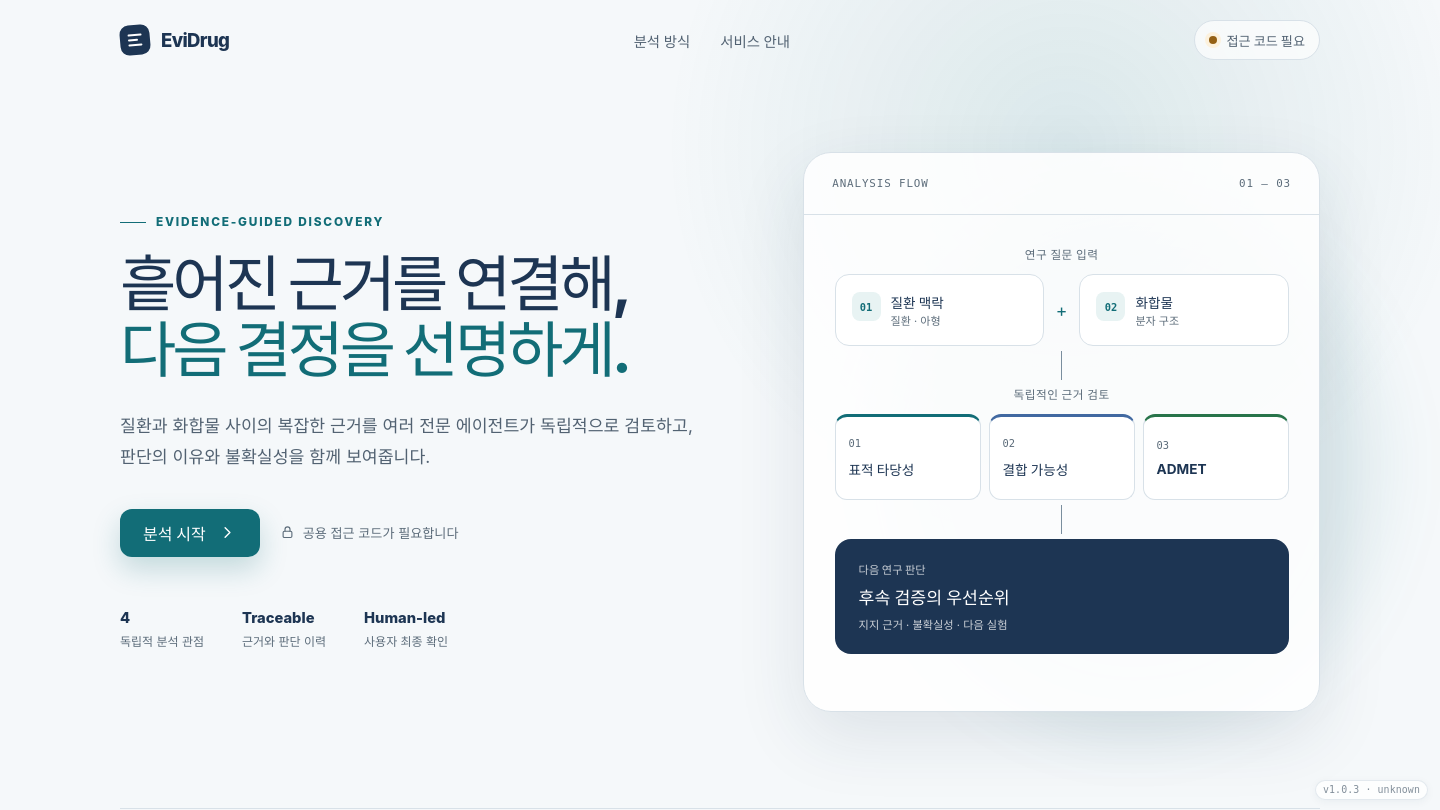
Test: App authentication flow › explains an invalid access code without clearing the input
Click the button "분석 시작" at coordinates (190, 533), box [120,509,260,557]
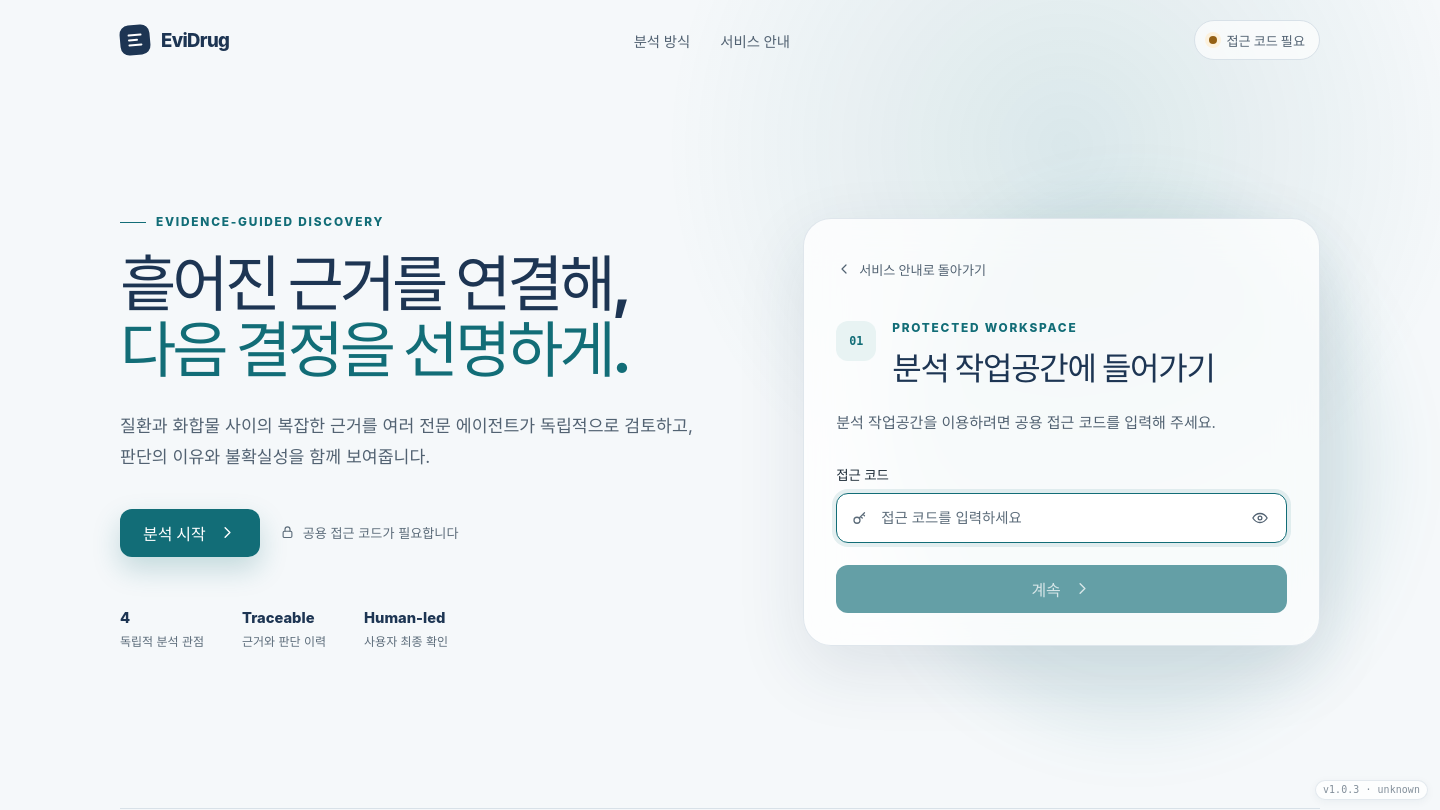
Type "incorrect-code" into the password field labelled "접근 코드" at coordinates (1056, 518), box [879,494,1232,542]
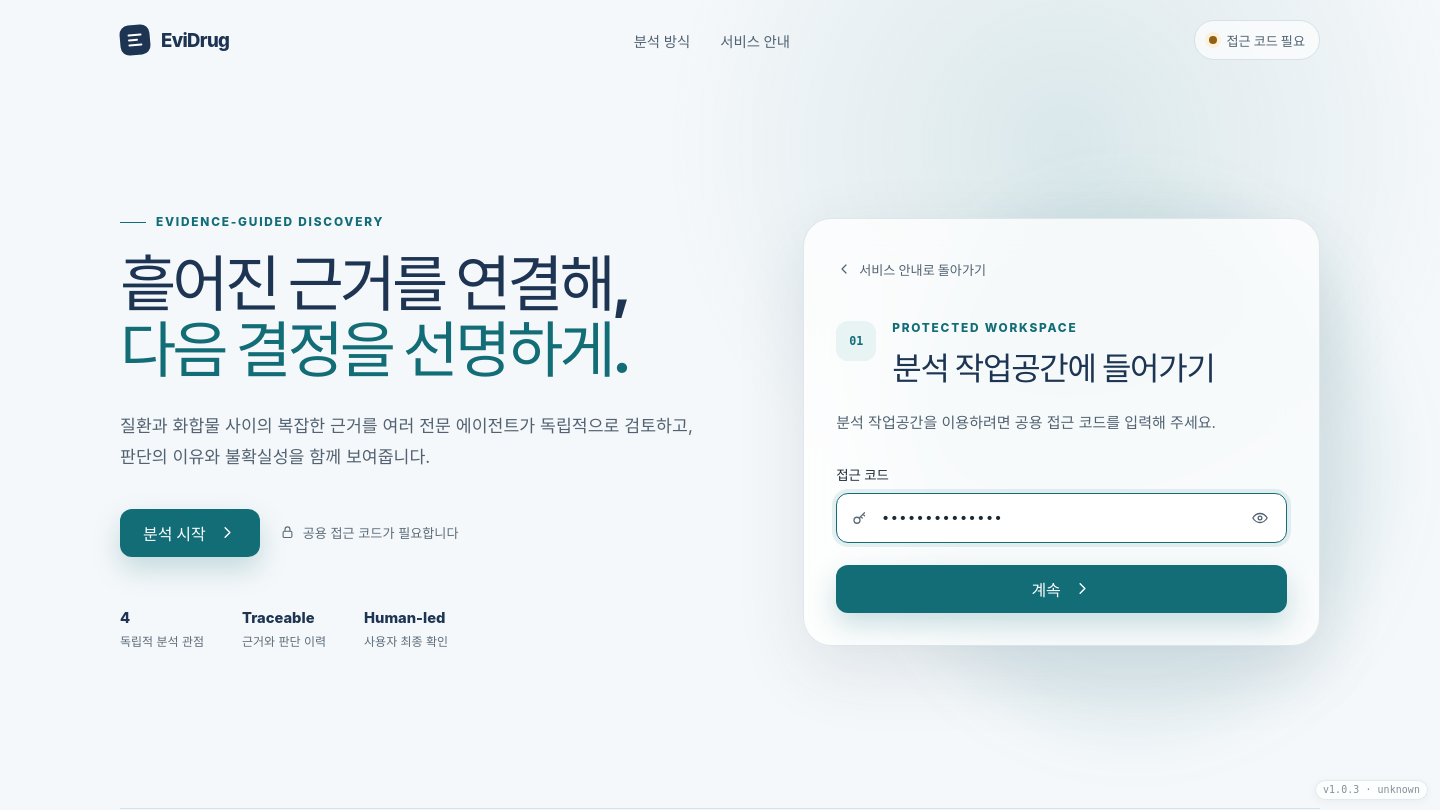
Click the button "계속" at coordinates (1062, 589), box [836,565,1287,613]
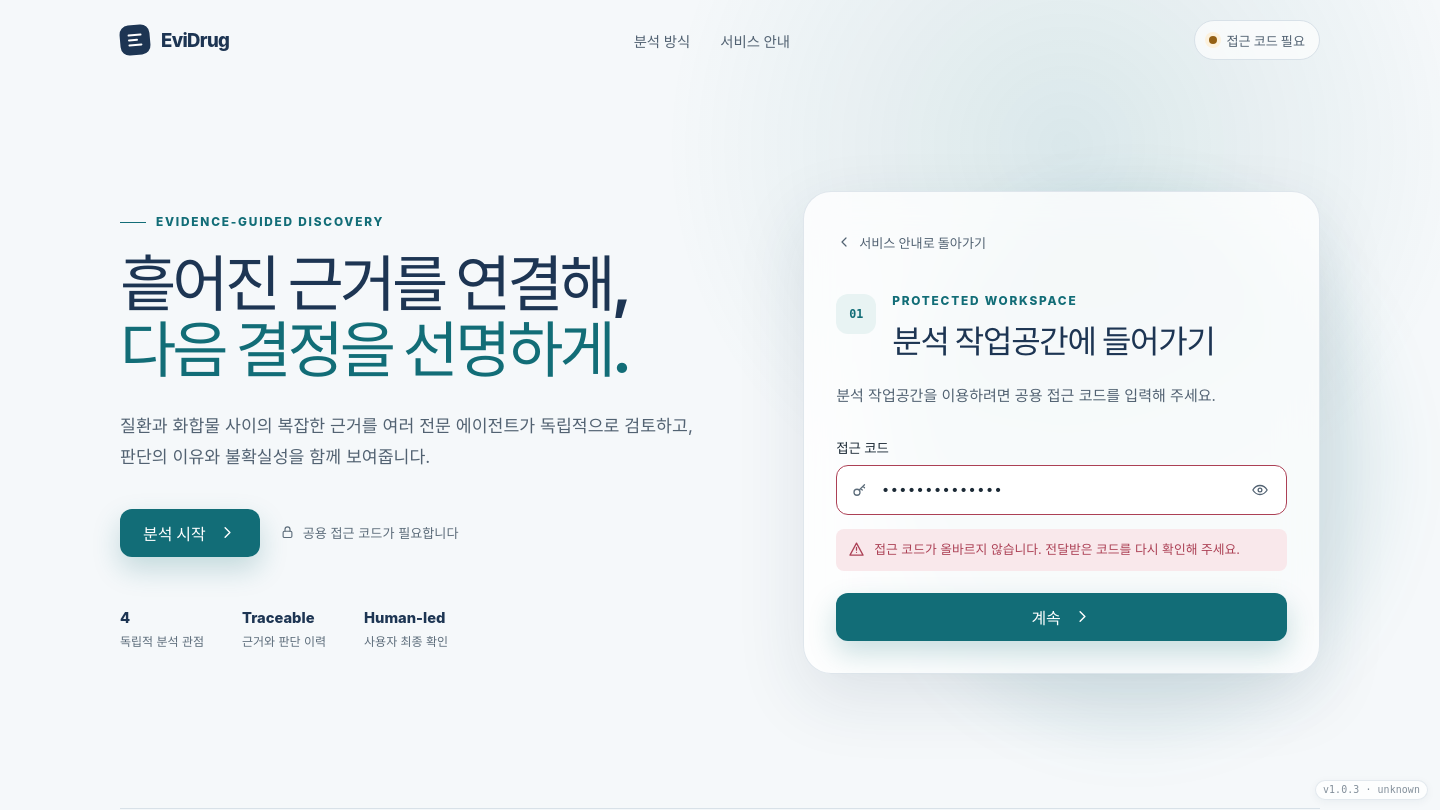
Now the text "접근 코드가 올바르지 않습니다. 전달받은 코드를 다시 확인해 주세요." is shown, box [874,540,1240,560]
